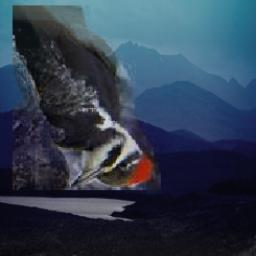Woodpecker: (13, 6, 161, 191)
